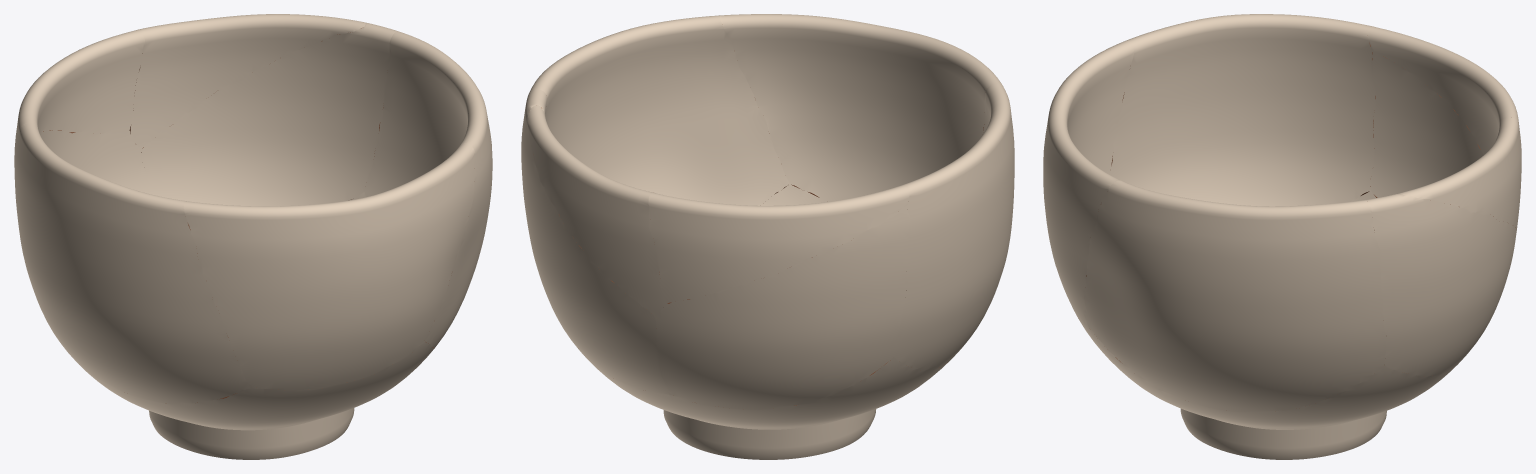
The model's file is Z3_drop.glb.
3 renders of one model, left to right at view 1: azimuth 30°, elevation 25°; view 2: azimuth 150°, elevation 25°; view 3: azimuth 270°, elevation 25°, orthographic.
Visible parts, largest first — view 1: shard_07, shard_05, shard_03, shard_06, shard_00, shard_01, shard_02, shard_04; view 2: shard_07, shard_06, shard_04, shard_05, shard_02, shard_00, shard_03, shard_01; view 3: shard_06, shard_05, shard_03, shard_07, shard_00, shard_04, shard_02, shard_01.
Part boxes in pixels (box(x1,y1,x2,y2)): shard_07: box(184, 143, 474, 390); shard_05: box(15, 123, 250, 403); shard_03: box(141, 22, 397, 206); shard_06: box(364, 31, 492, 347); shard_00: box(65, 192, 434, 459); shard_01: box(130, 14, 365, 149); shard_02: box(16, 29, 144, 136); shard_04: box(14, 130, 148, 227); shard_07: box(720, 14, 1002, 201); shard_06: box(529, 15, 789, 205); shard_04: box(655, 205, 908, 409); shard_05: box(893, 83, 1014, 370); shard_02: box(648, 184, 909, 303); shard_00: box(580, 184, 947, 459); shard_03: box(521, 89, 669, 394); shard_01: box(527, 105, 665, 315); shard_06: box(1084, 180, 1386, 411); shard_05: box(1109, 14, 1375, 206); shard_03: box(1366, 194, 1516, 376); shard_07: box(1043, 41, 1134, 322); shard_00: box(1079, 191, 1457, 459); shard_04: box(1370, 51, 1483, 197); shard_02: box(1367, 26, 1520, 154); shard_01: box(1398, 117, 1521, 228).
Size of the model in its own units: 0.1228 by 0.0871 by 0.122.
